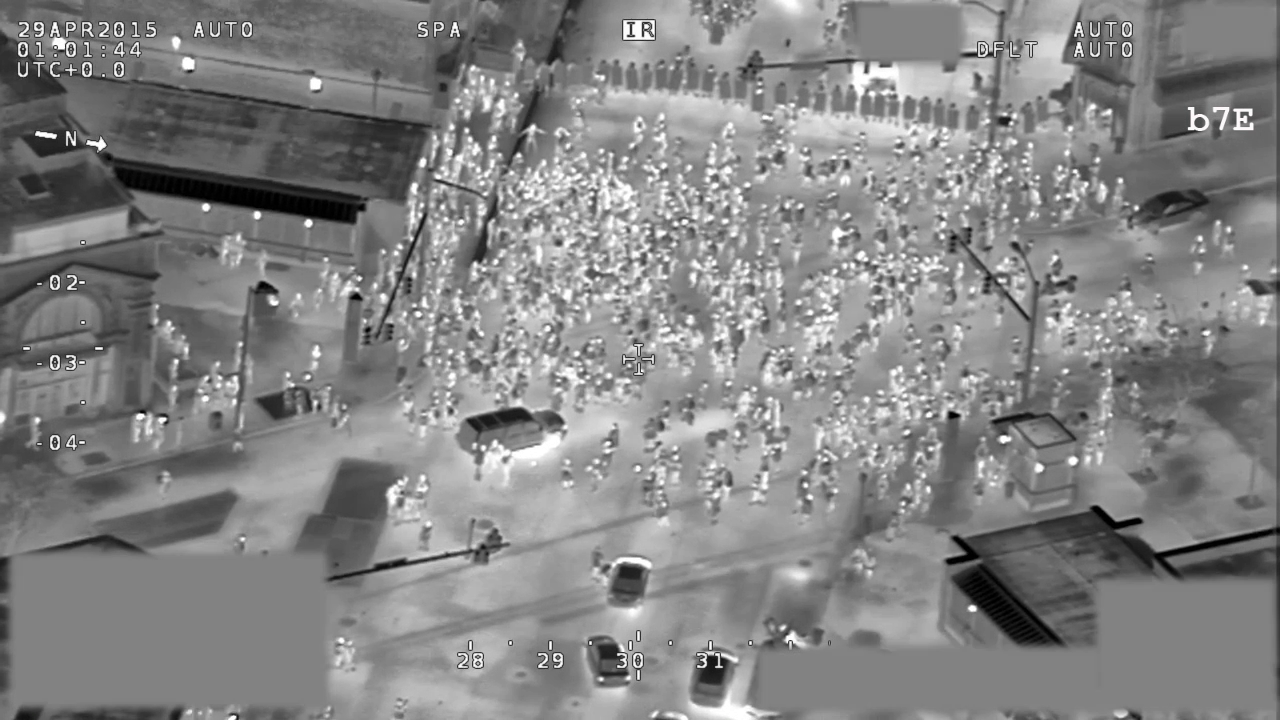vehicle: (454, 402, 571, 459), (1121, 182, 1213, 234), (688, 639, 742, 711), (578, 631, 637, 692), (605, 552, 657, 611)
